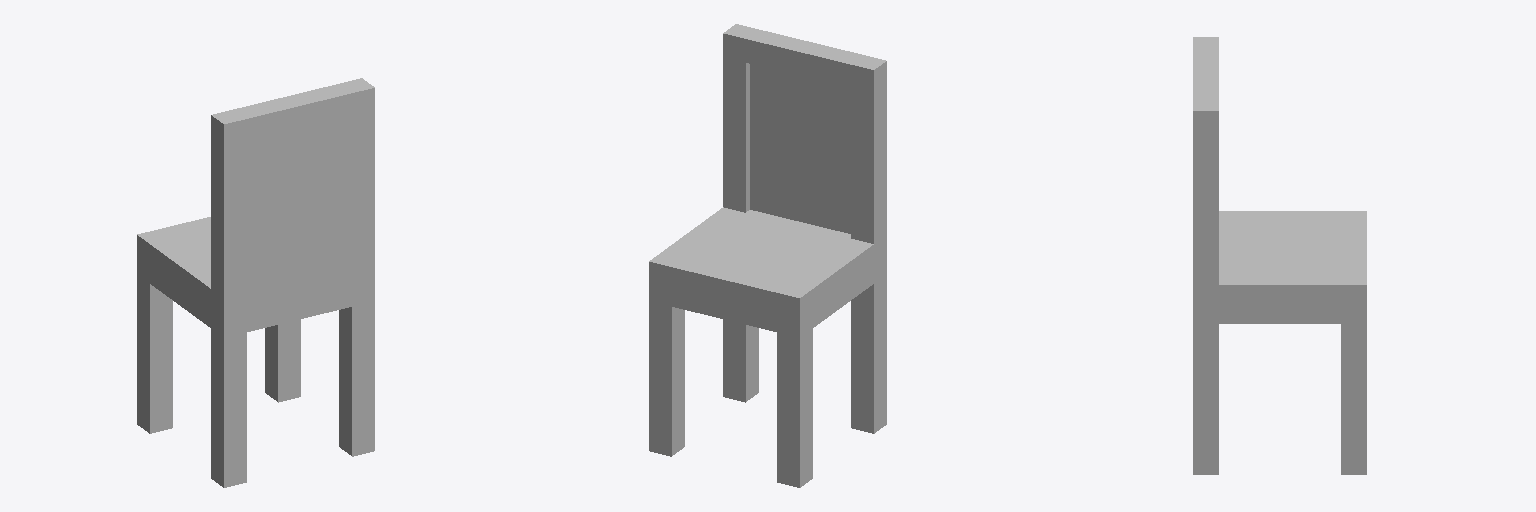
The model's file is blue chair.obj.
The picture shows the model from 3 angles: view 1: azimuth 30°, elevation 25°; view 2: azimuth 150°, elevation 25°; view 3: azimuth 270°, elevation 25°; orthographic projection.
Parts seen in each view (by area): view 1: chairModernCushion; view 2: chairModernCushion; view 3: chairModernCushion.
Part boxes in pixels (left/top/right/bottom): chairModernCushion: left=137, top=78, right=374, bottom=487; chairModernCushion: left=649, top=24, right=886, bottom=487; chairModernCushion: left=1193, top=37, right=1366, bottom=474.
Bounding box in the file's own units: 0.2 × 0.46 × 0.2.